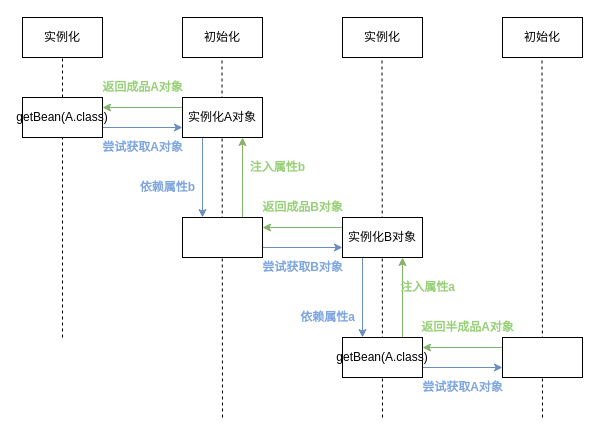
Some shapes in this 600 by 436 pixel diagram are drawn without their labels. The box of each missing label's shape, as (x1, y1, x2, y2) in pixels:
getBean(B.class): (182, 216, 262, 258)
将第二步实例化的A对象直接返回: (502, 336, 582, 378)
